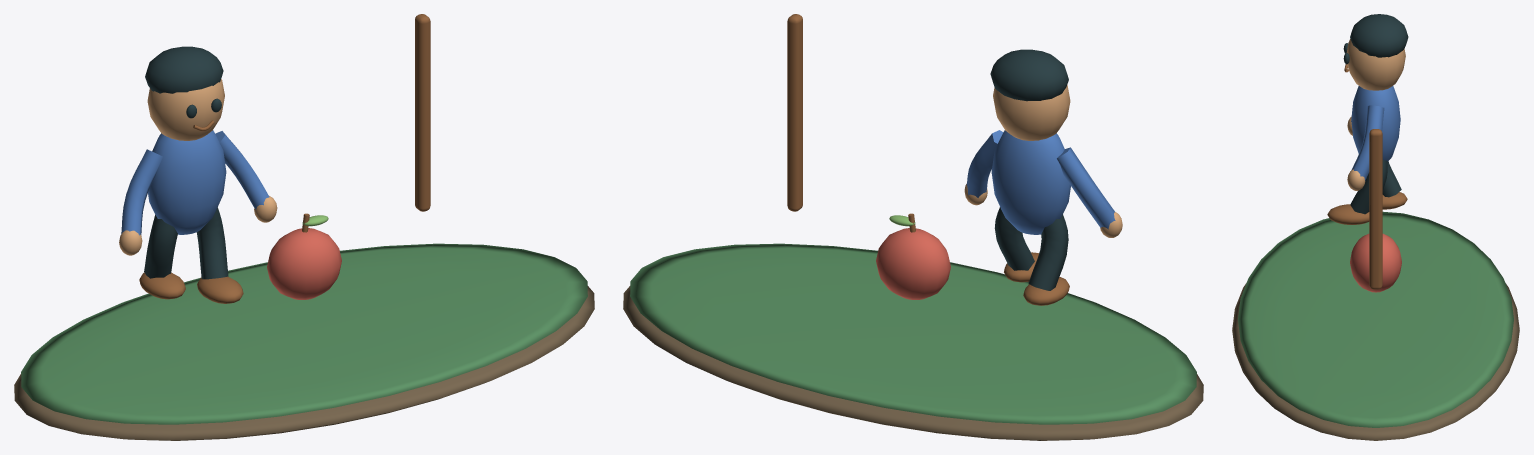
The model's file is complete-first-one-item-classifier.glb.
3 renders of one model, left to right at view 1: azimuth 30°, elevation 25°; view 2: azimuth 150°, elevation 25°; view 3: azimuth 270°, elevation 25°, orthographic. The views are drawn at different scales.
Parts seen in each view (by area): view 1: complete-first-one-item-classifier_surface_01, complete-first-one-item-classifier_surface_00, complete-first-one-item-classifier_surface_05, complete-first-one-item-classifier_surface_03, complete-first-one-item-classifier_surface_04, complete-first-one-item-classifier_surface_06, complete-first-one-item-classifier_surface_02; view 2: complete-first-one-item-classifier_surface_01, complete-first-one-item-classifier_surface_00, complete-first-one-item-classifier_surface_05, complete-first-one-item-classifier_surface_03, complete-first-one-item-classifier_surface_04, complete-first-one-item-classifier_surface_06, complete-first-one-item-classifier_surface_02; view 3: complete-first-one-item-classifier_surface_01, complete-first-one-item-classifier_surface_00, complete-first-one-item-classifier_surface_04, complete-first-one-item-classifier_surface_03, complete-first-one-item-classifier_surface_05, complete-first-one-item-classifier_surface_02, complete-first-one-item-classifier_surface_06.
Boxes of the visible parts, x1,y1,x2,y2 form: complete-first-one-item-classifier_surface_01: (21,243,587,424); complete-first-one-item-classifier_surface_00: (14,286,594,440); complete-first-one-item-classifier_surface_05: (121,130,269,235); complete-first-one-item-classifier_surface_03: (144,46,228,279); complete-first-one-item-classifier_surface_04: (139,14,430,303); complete-first-one-item-classifier_surface_06: (267,228,341,299); complete-first-one-item-classifier_surface_02: (119,79,277,255); complete-first-one-item-classifier_surface_01: (630,243,1196,424); complete-first-one-item-classifier_surface_00: (623,286,1203,440); complete-first-one-item-classifier_surface_05: (966,130,1115,234); complete-first-one-item-classifier_surface_03: (990,49,1068,290); complete-first-one-item-classifier_surface_04: (787,14,1069,305); complete-first-one-item-classifier_surface_06: (876,228,950,299); complete-first-one-item-classifier_surface_02: (964,85,1122,237); complete-first-one-item-classifier_surface_01: (1238,211,1513,427); complete-first-one-item-classifier_surface_00: (1232,283,1519,440); complete-first-one-item-classifier_surface_04: (1327,64,1407,289); complete-first-one-item-classifier_surface_03: (1343,14,1408,214); complete-first-one-item-classifier_surface_05: (1351,86,1400,180); complete-first-one-item-classifier_surface_02: (1346,39,1405,190); complete-first-one-item-classifier_surface_06: (1350,233,1401,292).
Size of the model in its own units: 4.56 by 2.67 by 2.5.
